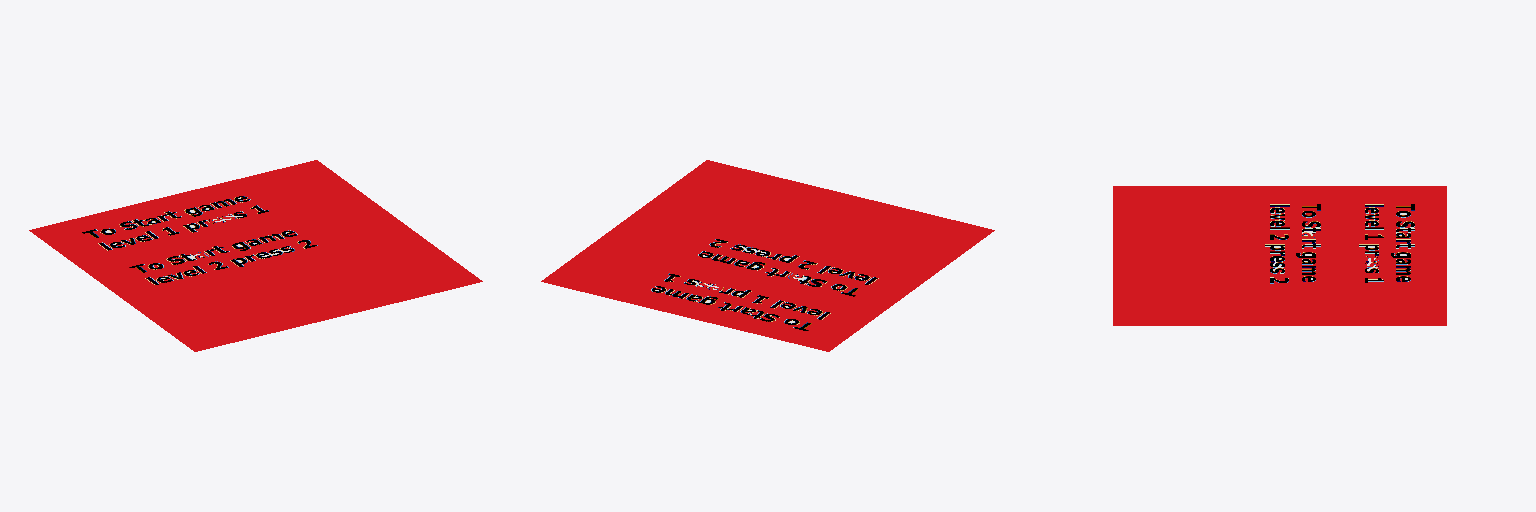
The picture shows the model from 3 angles: view 1: azimuth 30°, elevation 25°; view 2: azimuth 150°, elevation 25°; view 3: azimuth 270°, elevation 25°; orthographic projection.
Visible parts, largest first — view 1: Plane.001; view 2: Plane.001; view 3: Plane.001.
Boxes of the visible parts, <box> form: Plane.001: <box>29,160,482,351</box>; Plane.001: <box>541,160,994,351</box>; Plane.001: <box>1113,186,1446,325</box>.
Bounding box in the file's own units: 1 × 0 × 1.
Materials: 1 (1 with a texture image).